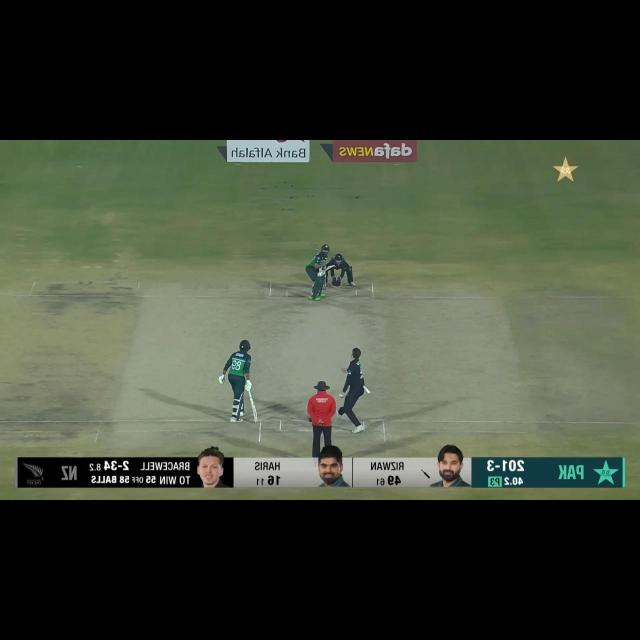bat: (248, 394, 260, 424), (323, 264, 336, 273)
toe: (252, 416, 258, 424), (331, 264, 335, 268)
